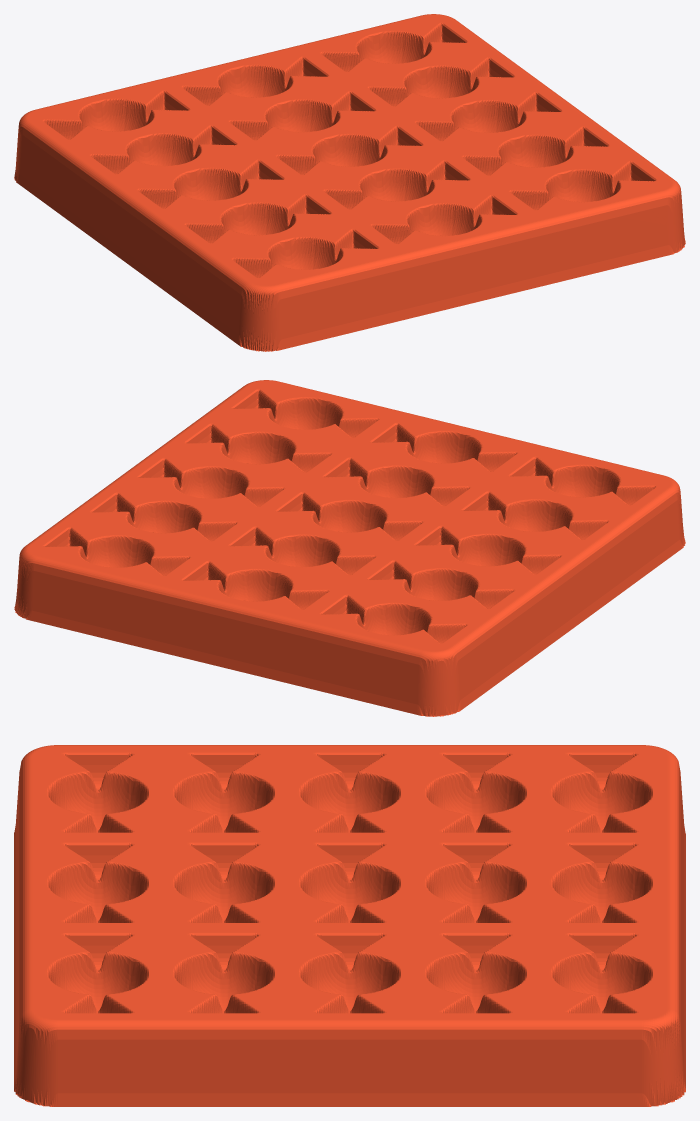
File: mold.glb
The picture shows the model from 3 angles, top to bottom: view 1: azimuth 30°, elevation 25°; view 2: azimuth 150°, elevation 25°; view 3: azimuth 270°, elevation 25°; orthographic projection. The views are drawn at different scales.
Parts seen in each view (by area): view 1: geometry_0; view 2: geometry_0; view 3: geometry_0.
Boxes of the visible parts, <box> form: geometry_0: <box>14,14,685,351</box>; geometry_0: <box>14,380,685,716</box>; geometry_0: <box>14,745,685,1106</box>.
Bounding box in the file's own units: 0.1415 × 0.0182 × 0.1392.
